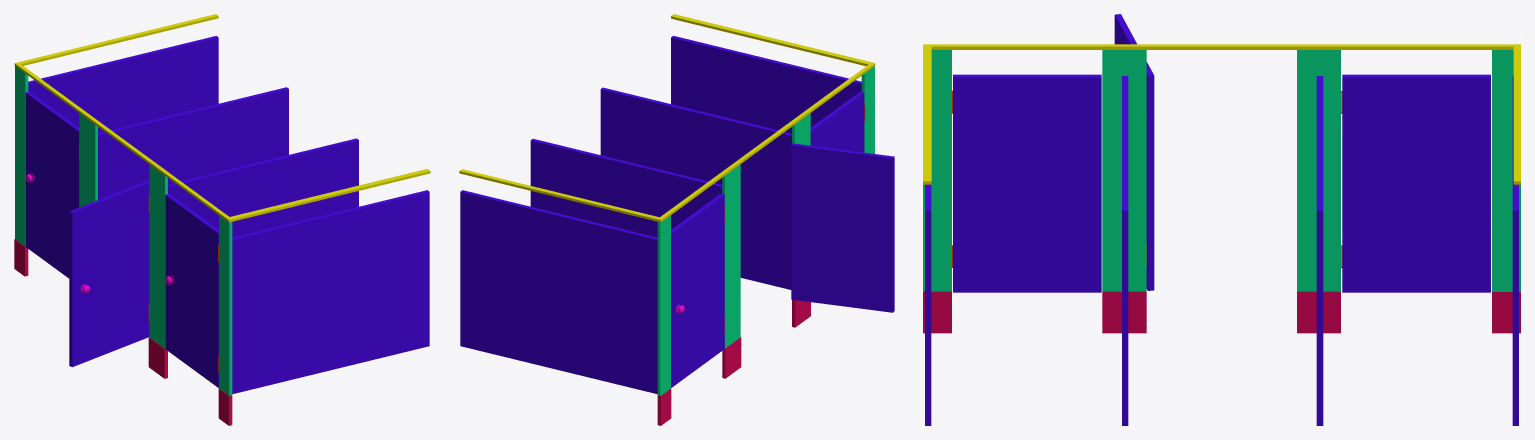
The model's file is Puertas_Baños.fbx.
The picture shows the model from 3 angles, left to right: view 1: azimuth 30°, elevation 25°; view 2: azimuth 150°, elevation 25°; view 3: azimuth 270°, elevation 25°; orthographic projection. The views are drawn at different scales.
Parts seen in each view (by area): view 1: Cube.007, Cube.005, Cube.010, Cube.008, Cube.012, Cube.006, Cube.004, Cube.009, Cube.002, Cube.003, Cube, Cube.001; view 2: Cube.008, Cube.012, Cube.005, Cube.007, Cube.010, Cube.004, Cube.009, Cube.001, Cube, Cube.006, Cube.003, Cube.002; view 3: Cube.004, Cube.006, Cube.002, Cube.001, Cube, Cube.003, Cube.009, Cube.010, Cube.005, Cube.012, Cube.008, Cube.007.
Boxes of the visible parts, left/top/right/bottom form: Cube.007: left=232, top=190, right=429, bottom=394; Cube.005: left=69, top=181, right=149, bottom=367; Cube.010: left=98, top=87, right=288, bottom=199; Cube.008: left=28, top=36, right=218, bottom=132; Cube.012: left=168, top=138, right=358, bottom=237; Cube.006: left=165, top=194, right=218, bottom=387; Cube.004: left=25, top=91, right=79, bottom=278; Cube.009: left=14, top=14, right=430, bottom=222; Cube.002: left=148, top=164, right=167, bottom=378; Cube.003: left=218, top=215, right=232, bottom=425; Cube: left=14, top=66, right=28, bottom=276; Cube.001: left=79, top=113, right=97, bottom=207; Cube.008: left=460, top=190, right=657, bottom=394; Cube.012: left=600, top=87, right=791, bottom=289; Cube.005: left=791, top=143, right=894, bottom=312; Cube.007: left=671, top=35, right=861, bottom=133; Cube.010: left=530, top=138, right=722, bottom=237; Cube.004: left=671, top=194, right=724, bottom=387; Cube.009: left=459, top=14, right=875, bottom=222; Cube.001: left=722, top=164, right=741, bottom=378; Cube: left=657, top=215, right=671, bottom=425; Cube.006: left=810, top=91, right=864, bottom=152; Cube.003: left=861, top=66, right=874, bottom=153; Cube.002: left=792, top=113, right=810, bottom=327; Cube.004: left=1342, top=74, right=1490, bottom=292; Cube.006: left=953, top=74, right=1101, bottom=292; Cube.002: left=1102, top=50, right=1146, bottom=333; Cube.001: left=1297, top=50, right=1340, bottom=333; Cube: left=1492, top=50, right=1520, bottom=333; Cube.003: left=923, top=50, right=951, bottom=333; Cube.009: left=923, top=44, right=1520, bottom=184; Cube.010: left=1316, top=76, right=1323, bottom=425; Cube.005: left=1114, top=14, right=1154, bottom=290; Cube.012: left=1122, top=76, right=1128, bottom=425; Cube.008: left=1512, top=76, right=1518, bottom=425; Cube.007: left=925, top=184, right=931, bottom=425.
Bounding box in the file's own units: 352 × 239 × 451.
